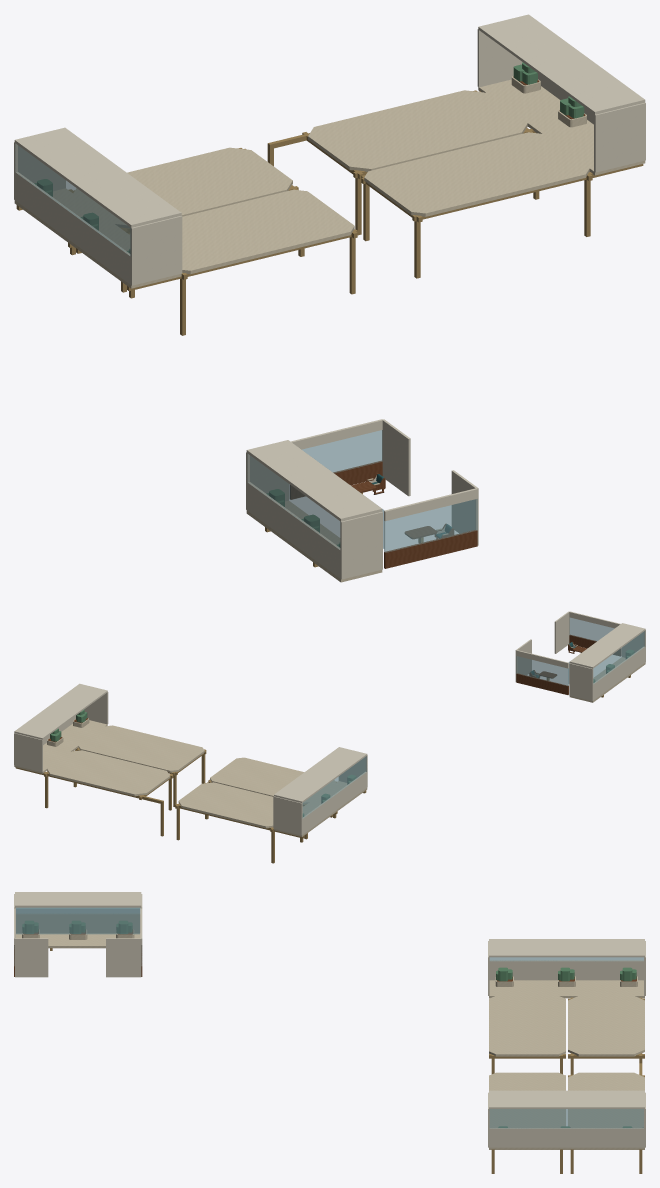
The model's file is D04_PORT_FORWARD_HOMES_RECEIVING_r001.glb.
3 renders of one model, top to bottom at view 1: azimuth 30°, elevation 25°; view 2: azimuth 150°, elevation 25°; view 3: azimuth 270°, elevation 25°, orthographic. The views are drawn at different scales.
Visible parts, largest first — view 1: D04H892_Floor, D04H916_Floor, D04H880_Floor, D04H904_Floor, D04HC_west_Roof, D04HC_east_Roof, D04HC_commons_Roof, D04HC_east_Floor, D04HC_west_PrivacyScreen, D04HC_west_GlassUpper, D04HC_west_End.001, D04HC_east_End.001 (+16 smaller); view 2: D04H916_Floor, D04H892_Floor, D04H904_Floor, D04H880_Floor, D04HC_west_Roof, D04HC_east_Roof, D04HC_commons_Roof, D04HC_east_Floor, D04HC_west_PrivacyScreen, D04HC_west_GlassUpper, D04HC_west_End, D04Commons_NorthGlass (+10 smaller); view 3: D04H880_Floor, D04H904_Floor, D04Commons_GardenGlass, D04HC_east_PrivacyScreen, D04HC_east_GlassUpper, D04HC_west_Roof, D04HC_east_Roof, D04H892_Floor, D04H916_Floor, D04HC_west_PrivacyScreen, D04HC_west_Floor, D04HC_commons_Roof (+7 smaller).
Boxes of the visible parts, x1,y1,x2,y2 form: D04H892_Floor: [364, 132, 589, 216]; D04H916_Floor: [308, 90, 527, 171]; D04H880_Floor: [182, 189, 354, 274]; D04H904_Floor: [73, 147, 292, 228]; D04HC_west_Roof: [14, 127, 181, 227]; D04HC_east_Roof: [478, 14, 645, 114]; D04HC_commons_Roof: [246, 440, 382, 521]; D04HC_east_Floor: [478, 79, 645, 175]; D04HC_west_PrivacyScreen: [14, 172, 131, 284]; D04HC_west_GlassUpper: [15, 143, 130, 256]; D04HC_west_End.001: [130, 216, 182, 285]; D04HC_east_End.001: [594, 102, 645, 172]; D04H916_Floor: [47, 750, 169, 796]; D04H892_Floor: [78, 725, 204, 772]; D04H904_Floor: [178, 782, 273, 828]; D04H880_Floor: [210, 757, 335, 804]; D04HC_west_Roof: [274, 747, 367, 802]; D04HC_east_Roof: [14, 683, 107, 739]; D04HC_commons_Roof: [569, 623, 645, 668]; D04HC_east_Floor: [14, 720, 107, 773]; D04HC_west_PrivacyScreen: [302, 772, 367, 834]; D04HC_west_GlassUpper: [302, 756, 366, 818]; D04HC_west_End: [273, 796, 302, 835]; D04Commons_NorthGlass: [516, 656, 568, 685]; D04H880_Floor: [489, 996, 565, 1056]; D04H904_Floor: [568, 996, 644, 1056]; D04Commons_GardenGlass: [16, 907, 139, 934]; D04HC_east_PrivacyScreen: [489, 1128, 644, 1147]; D04HC_east_GlassUpper: [489, 1109, 643, 1128]; D04HC_west_Roof: [489, 939, 644, 957]; D04HC_east_Roof: [489, 1090, 644, 1108]; D04H892_Floor: [489, 1072, 565, 1127]; D04H916_Floor: [568, 1072, 644, 1127]; D04HC_west_PrivacyScreen: [489, 960, 643, 980]; D04HC_west_Floor: [489, 980, 644, 998]; D04HC_commons_Roof: [15, 892, 141, 907].
Size of the model in its own units: 47.6 by 8.66 by 59.08.
Materials: 18 (16 with a texture image).
